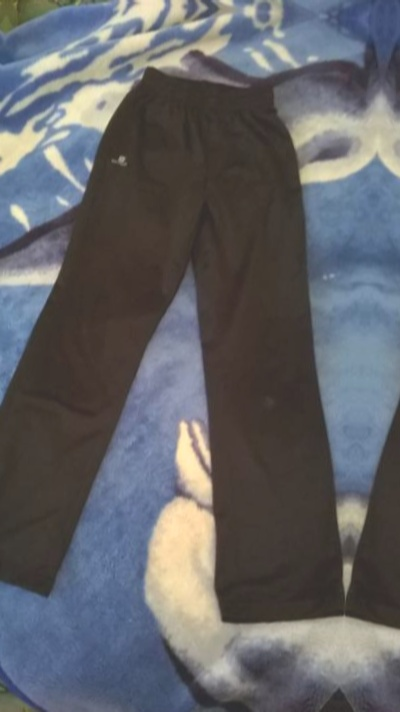Pants: (0, 45, 370, 637), (356, 72, 400, 664)
